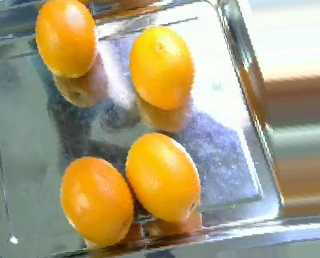Orange: (123, 131, 200, 223), (60, 156, 134, 246), (129, 26, 194, 109), (34, 1, 98, 78)
